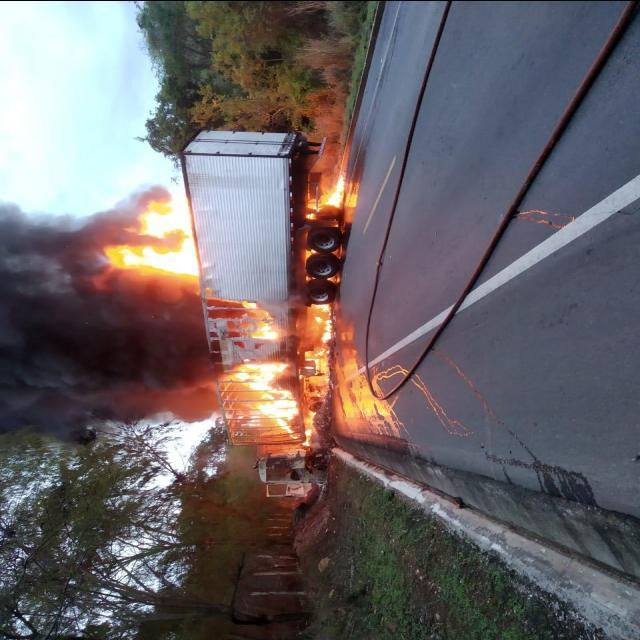Fire: (108, 202, 200, 279), (235, 358, 298, 438), (304, 306, 332, 373), (308, 177, 344, 213), (250, 319, 278, 341), (239, 299, 259, 309), (302, 427, 312, 447)
